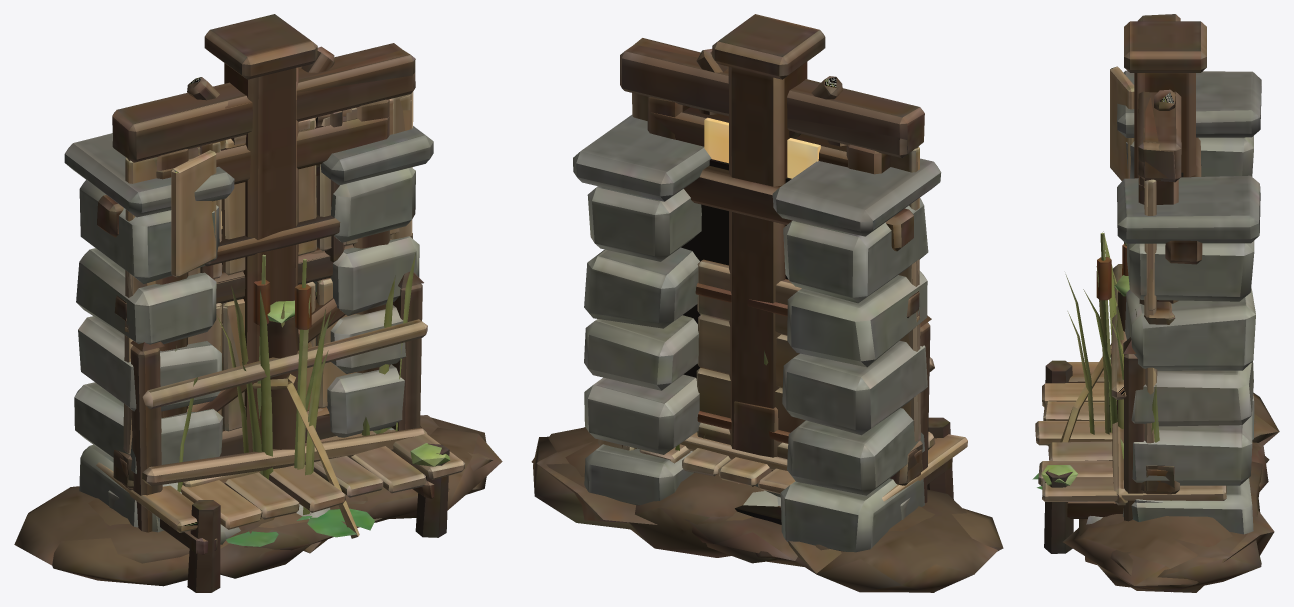
The model's file is env-flooded-mill.low.glb.
The picture shows the model from 3 angles, left to right: view 1: azimuth 30°, elevation 25°; view 2: azimuth 150°, elevation 25°; view 3: azimuth 270°, elevation 25°; orthographic projection. The views are drawn at different scales.
Visible parts, largest first — view 1: sluice, timber-wall, timber-post, walkway, fence, timber-window, timber-doorway, reeds-bank, reeds, reeds-low, mud-bank, post (+1 smaller); view 2: sluice, timber-post, reeds-bank, timber-wall, timber-doorway, mud-bank, walkway, reeds-low, timber-window, timber-post-low, fence; view 3: sluice, walkway, mud-bank, timber-post, fence, timber-window, reeds, reeds-low, timber-wall, reeds-bank, timber-doorway, post.
Part boxes in pixels (x1=…): sluice: x1=64, y1=126, x2=433, y2=527; timber-wall: x1=112, y1=43, x2=415, y2=532; timber-post: x1=187, y1=14, x2=334, y2=506; walkway: x1=96, y1=429, x2=465, y2=592; fence: x1=130, y1=271, x2=427, y2=532; timber-window: x1=112, y1=50, x2=415, y2=521; timber-doorway: x1=113, y1=50, x2=414, y2=493; reeds-bank: x1=14, y1=253, x2=492, y2=565; reeds: x1=216, y1=254, x2=337, y2=528; reeds-low: x1=52, y1=417, x2=486, y2=586; mud-bank: x1=88, y1=426, x2=502, y2=578; post: x1=252, y1=300, x2=359, y2=538; sluice: x1=573, y1=115, x2=941, y2=552; timber-post: x1=696, y1=14, x2=842, y2=506; reeds-bank: x1=536, y1=350, x2=997, y2=592; timber-wall: x1=620, y1=43, x2=924, y2=485; timber-doorway: x1=632, y1=38, x2=922, y2=487; mud-bank: x1=531, y1=427, x2=934, y2=566; walkway: x1=598, y1=417, x2=967, y2=501; reeds-low: x1=533, y1=436, x2=1003, y2=592; timber-window: x1=621, y1=38, x2=922, y2=497; timber-post-low: x1=733, y1=401, x2=781, y2=506; fence: x1=920, y1=315, x2=935, y2=502; sluice: x1=1117, y1=70, x2=1261, y2=534; walkway: x1=1035, y1=360, x2=1226, y2=553; mud-bank: x1=1063, y1=420, x2=1269, y2=592; timber-post: x1=1124, y1=21, x2=1206, y2=178; fence: x1=1111, y1=242, x2=1145, y2=521; timber-window: x1=1110, y1=66, x2=1180, y2=491; reeds: x1=1065, y1=231, x2=1128, y2=434; reeds-low: x1=1079, y1=414, x2=1278, y2=592; timber-wall: x1=1122, y1=14, x2=1181, y2=519; reeds-bank: x1=1085, y1=279, x2=1279, y2=575; timber-doorway: x1=1138, y1=97, x2=1183, y2=487; post: x1=1060, y1=275, x2=1129, y2=442.
Size of the model in its own units: 1.68 by 1.8 by 0.8357.
Materials: 2 (2 with a texture image).
